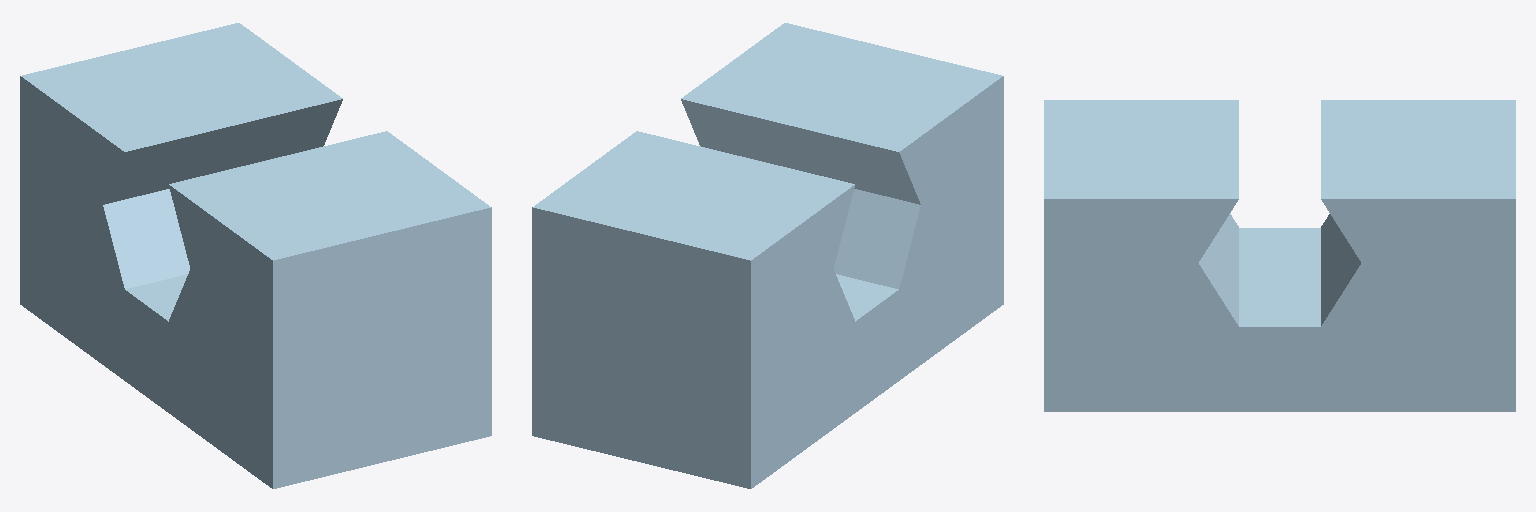
robot.urdf — small_hex_bottom:
<?xml version="1.0"?>
<robot name="small_hex_bottom">
    <link name="small_hex_bottom">
        <visual>
            <origin xyz="0 1.3877787807814456755e-17 0.025000000000000001388" rpy="0 -0 0" />
            <geometry>
            <mesh filename="separate_wall_shapes_small/wall_pieces/small_hex_bottom.obj"/>
            </geometry>
            <material name="small_hex_bottom_material">
            <color rgba="0.76862745098039220171 0.88627450980392152857 0.95294117647058818044 1.0"/>
            </material>
        </visual>
        <collision>
            <origin xyz="0 1.3877787807814456755e-17 0.025000000000000001388" rpy="0 -0 0" />
            <geometry>
            <mesh filename="separate_wall_shapes_small/wall_pieces/small_hex_bottom.obj"/>
            </geometry>
        </collision>
        <inertial>
            <origin xyz="0 0 0" rpy="0 0 0"/>
            <mass value="100" />
            <inertia ixx="0" ixy="0"  ixz="0" iyy="0" iyz="0" izz="0" />
        </inertial>
    </link>


</robot>

--- What the picture shows (computed from the rendered views, not written in the file) ---
Views: 3 orthographic renders of the robot side by side, from view 1: azimuth 30°, elevation 25°; view 2: azimuth 150°, elevation 25°; view 3: azimuth 270°, elevation 25°.
Robot: small_hex_bottom — 1 links, 0 joints (none); root link small_hex_bottom; default pose: every joint at zero.
Visible links, largest first — view 1: small_hex_bottom; view 2: small_hex_bottom; view 3: small_hex_bottom.
Boxes of the visible links, x1=… form: small_hex_bottom: x1=20, y1=23, x2=491, y2=488; small_hex_bottom: x1=532, y1=23, x2=1003, y2=488; small_hex_bottom: x1=1044, y1=100, x2=1515, y2=411.
Bounding box of the posed robot: 0.25 × 0.5 × 0.25 m (x, y, z).
1 mesh visuals loaded from 1 distinct referenced files (1 OBJ).